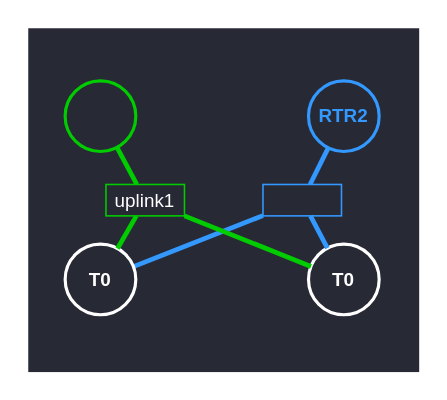
The diagram is 447 pixels wide and 400 high, and some of its shapes have lost their labels. The centre of each missing label's shape, as x and y in pixels:
"RTR1" goes at pixel 100 115.
"uplink2" goes at pixel 301 199.
